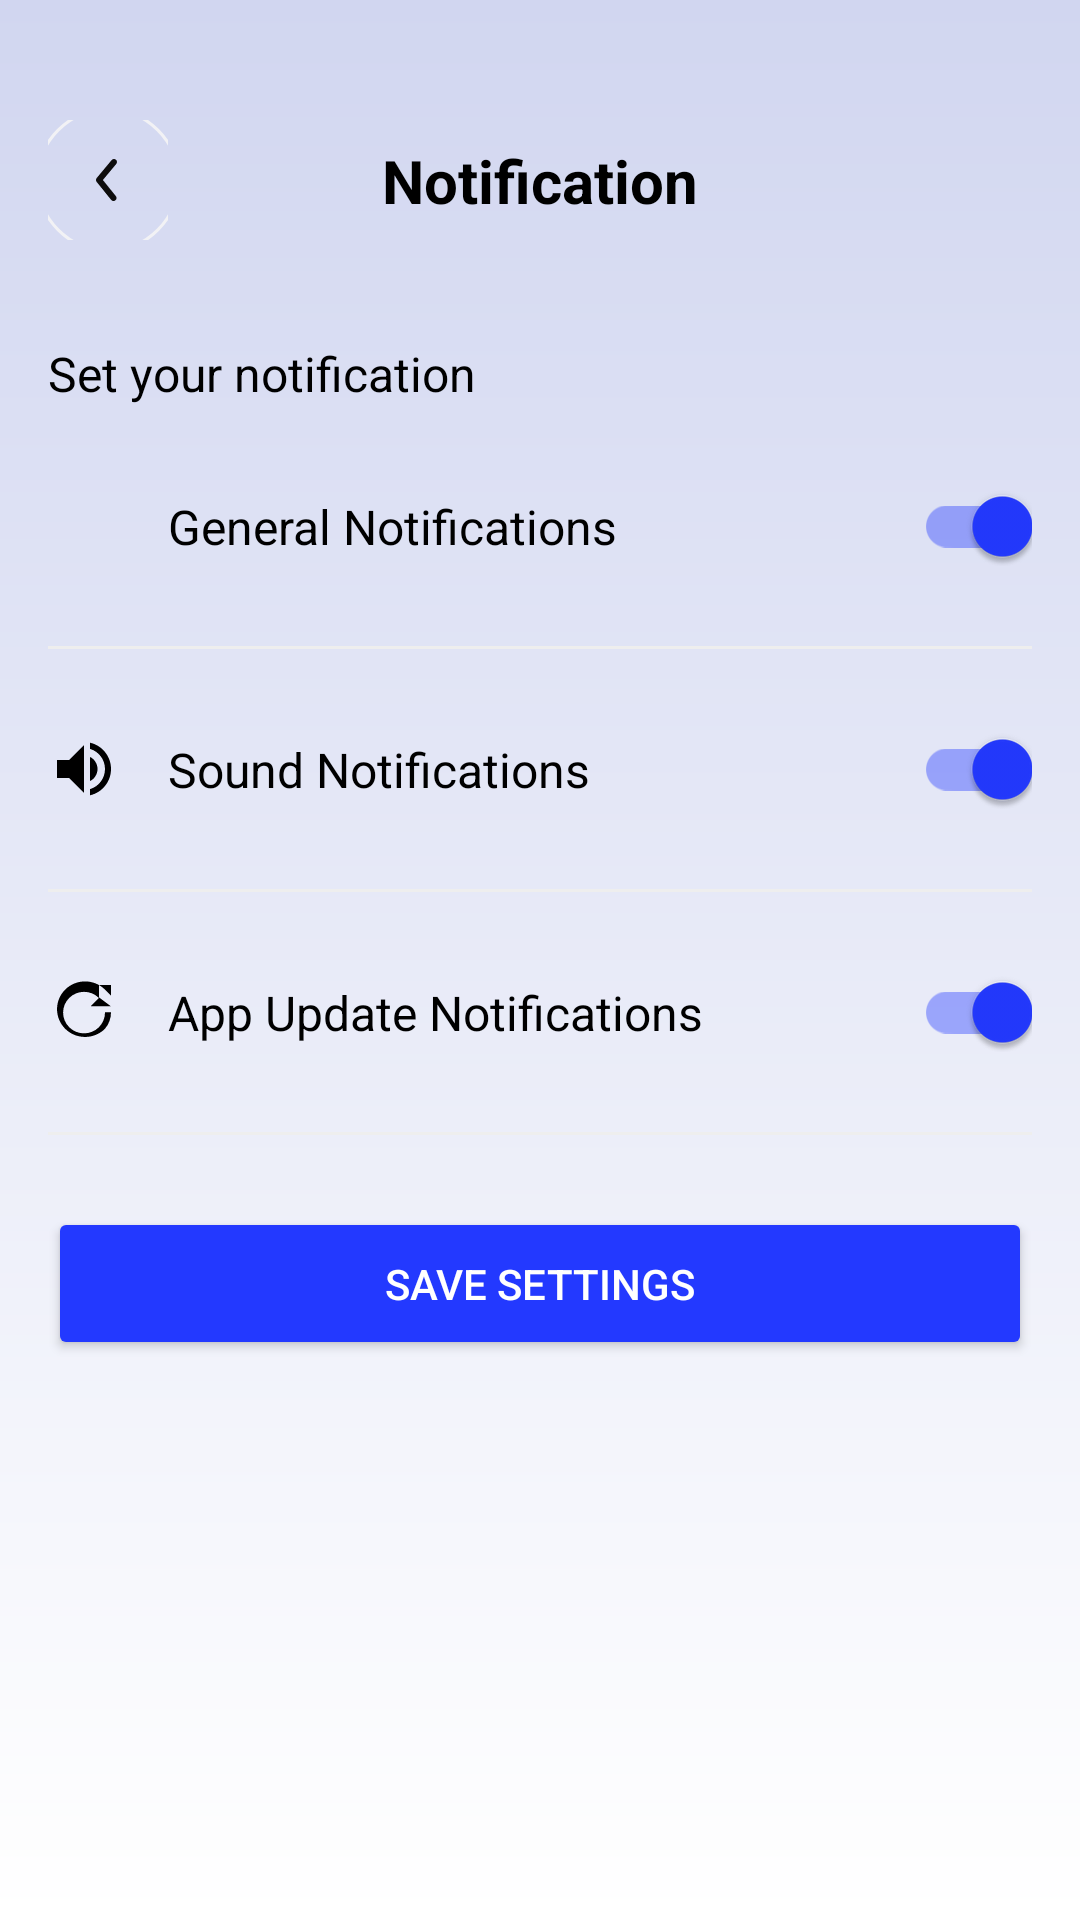

Screen size 1080px×1920px. Icon name, then its box in pixels as box=[x1, y1, x2, y2]:
App updates icon: box=[57, 981, 111, 1037]
Back button: box=[48, 120, 168, 240]
